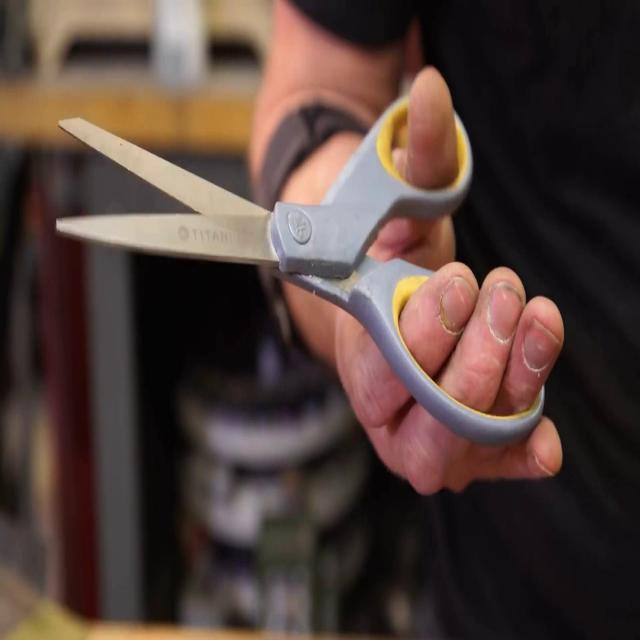scissor: (55, 94, 546, 445)
